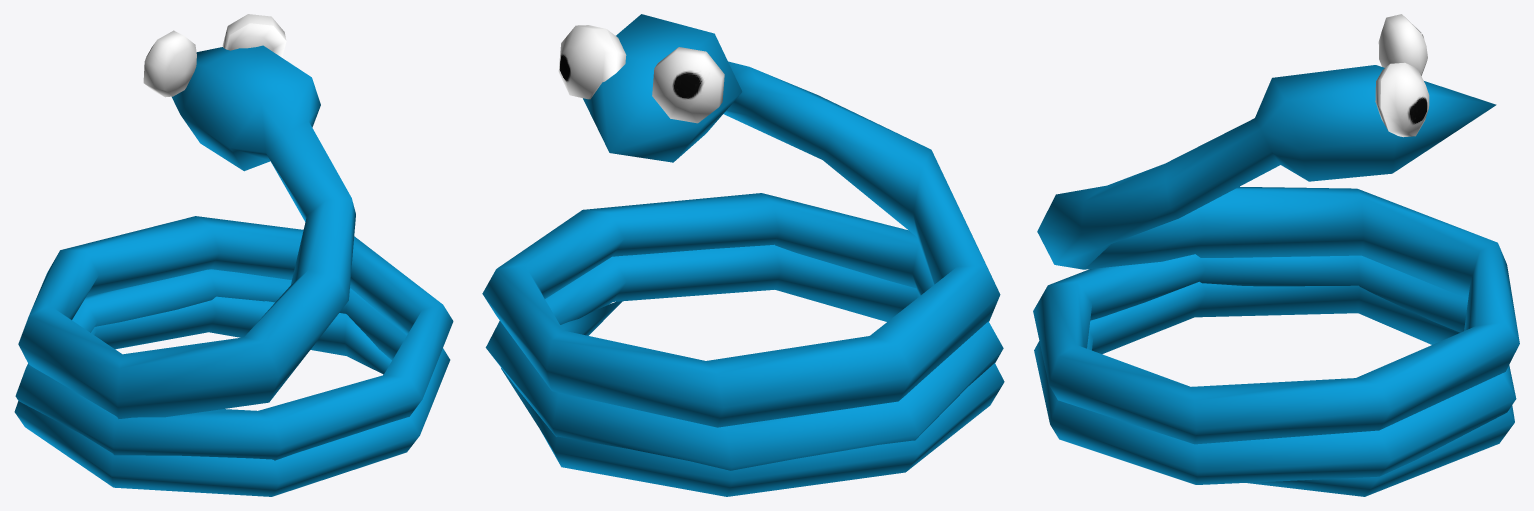
Rendered from Snake.glb.
3 views of the same model, side by side, from view 1: azimuth 30°, elevation 25°; view 2: azimuth 150°, elevation 25°; view 3: azimuth 270°, elevation 25° (orthographic). The views are drawn at different scales.
Parts seen in each view (by area): view 1: snake; view 2: snake; view 3: snake.
Part boxes in pixels (x1,y1,x2,y2): snake: (14, 14, 453, 496); snake: (482, 14, 1004, 496); snake: (1033, 14, 1519, 496).
Bounding box in the file's own units: 9.64 × 8.51 × 9.67.
Materials: 1 (1 with a texture image).
